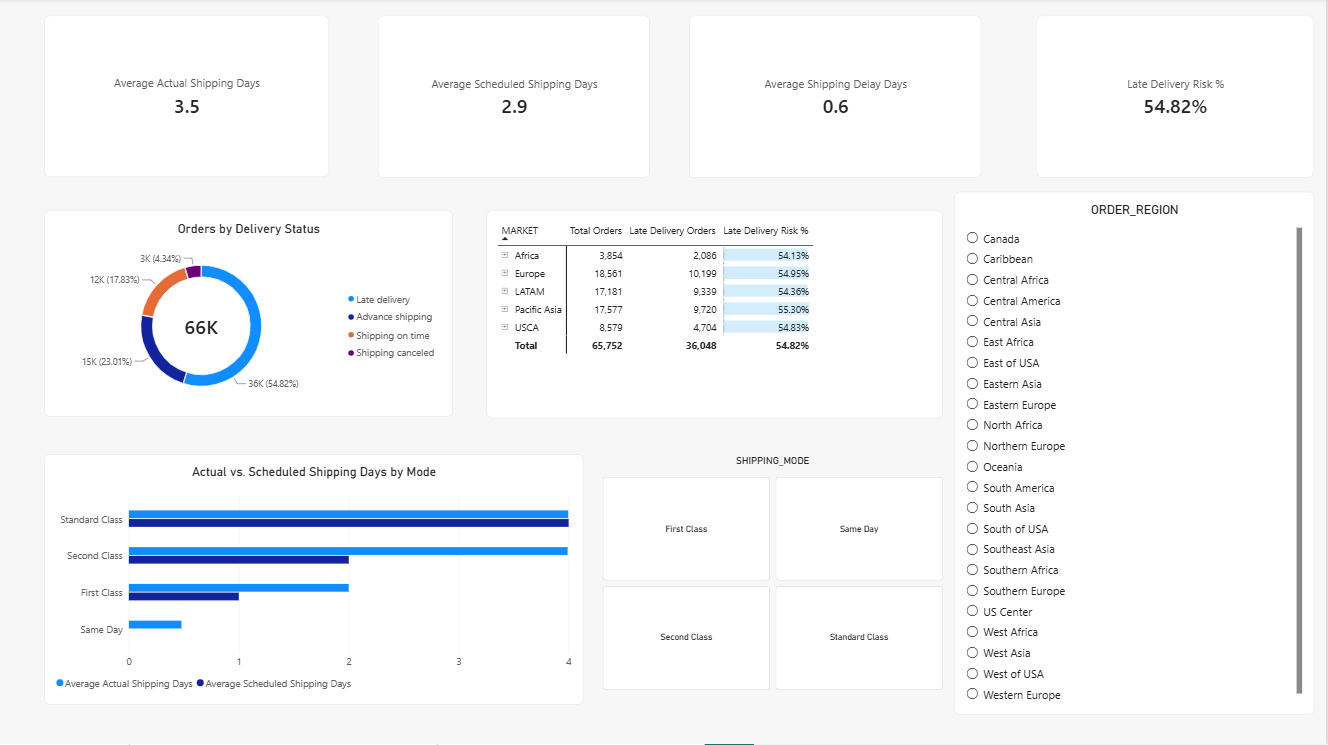

The dashboard page shown, as its layout file describes it:
{"tool":"powerbi","page":{"name":"Supply Chain & Logistics Performance","canvas":[1920,1080],"ordinal":1},"visuals":[{"type":"cardVisual","fields":{"Data":["FACT_SALES.Average Actual Shipping Days"]},"box":[65.1,25.3,412.6,235],"z":0},{"type":"cardVisual","fields":{"Data":["FACT_SALES.Average Scheduled Shipping Days"]},"box":[548.3,25.3,394.5,235.3],"z":1000},{"type":"cardVisual","fields":{"Data":["FACT_SALES.Average Shipping Delay Days"]},"box":[998.9,25.3,423.5,235.3],"z":2000},{"type":"cardVisual","fields":{"Data":["FACT_SALES.Late Delivery Risk %"]},"box":[1502,25.3,401.7,235.3],"z":3000},{"type":"clusteredBarChart","title":"Actual vs. Scheduled Shipping Days by Mode","fields":{"Category":["DIM_SHIPPING.SHIPPING_MODE"],"Y":["FACT_SALES.Average Actual Shipping Days","FACT_SALES.Average Scheduled Shipping Days"]},"box":[64.8,660.5,780.7,362.6],"z":4000},{"type":"pivotTable","fields":{"Rows":["DIM_ORDER.MARKET","DIM_ORDER.ORDER_REGION"],"Values":["FACT_SALES.Total Orders","FACT_SALES.Late Delivery Orders","FACT_SALES.Late Delivery Risk %"]},"box":[705.8,307.6,660.5,300.4],"z":5000},{"type":"donutChart","title":"Orders by Delivery Status","fields":{"Category":["DIM_SHIPPING.DELIVERY_STATUS"],"Y":["FACT_SALES.Total Orders"]},"box":[65.1,307.6,591.8,298.6],"z":6000},{"type":"advancedSlicerVisual","fields":{"Values":["DIM_SHIPPING.SHIPPING_MODE"]},"box":[873.2,660.5,492.1,342.3],"z":7000},{"type":"listSlicer","fields":{"Values":["DIM_ORDER.ORDER_REGION"]},"box":[1382,281.2,521.7,756.7],"z":8000}]}

Visuals, with their boxes in screenshot pixels (x1, y1, x2, y2), scaled from the page's 1920x1080 canvas onto the 1328x745 screenshot:
cardVisual - FACT_SALES.Average Actual Shipping Days: bbox=(45, 17, 330, 180)
cardVisual - FACT_SALES.Average Scheduled Shipping Days: bbox=(379, 17, 652, 180)
cardVisual - FACT_SALES.Average Shipping Delay Days: bbox=(691, 17, 984, 180)
cardVisual - FACT_SALES.Late Delivery Risk %: bbox=(1039, 17, 1317, 180)
"Actual vs. Scheduled Shipping Days by Mode" clusteredBarChart: bbox=(45, 456, 585, 706)
pivotTable - DIM_ORDER.MARKET x DIM_ORDER.ORDER_REGION: bbox=(488, 212, 945, 419)
"Orders by Delivery Status" donutChart: bbox=(45, 212, 454, 418)
advancedSlicerVisual - DIM_SHIPPING.SHIPPING_MODE: bbox=(604, 456, 944, 692)
listSlicer - DIM_ORDER.ORDER_REGION: bbox=(956, 194, 1317, 716)
